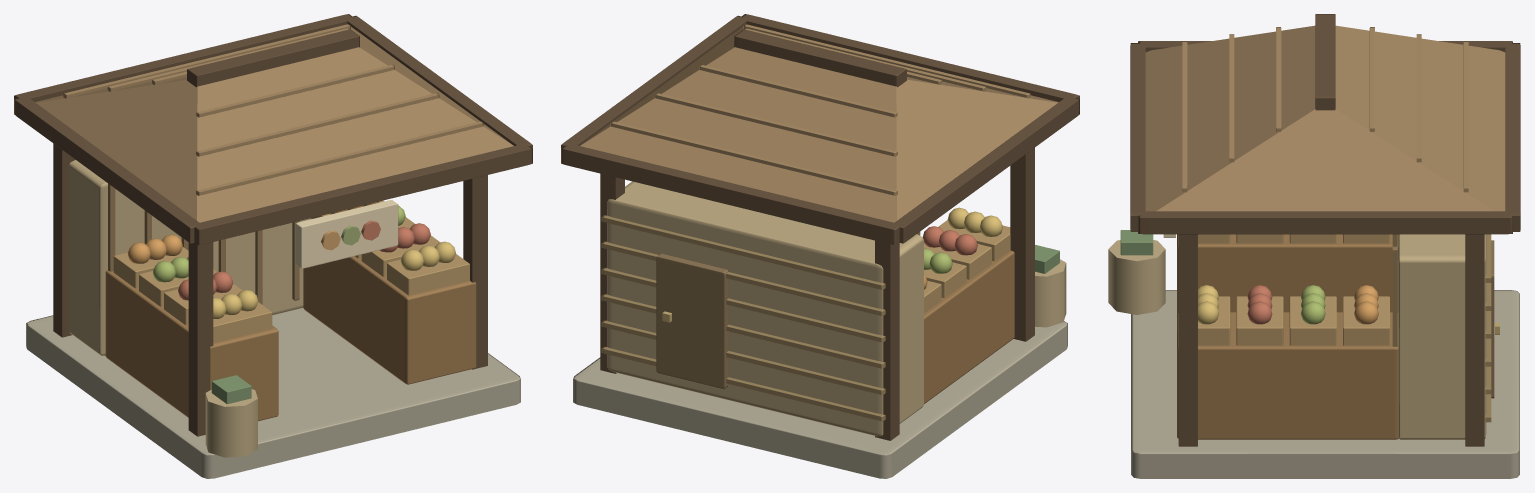
The model's file is grocer-3.glb.
The picture shows the model from 3 angles, left to right: view 1: azimuth 30°, elevation 25°; view 2: azimuth 150°, elevation 25°; view 3: azimuth 270°, elevation 25°; orthographic projection. The views are drawn at different scales.
Visible parts, largest first — view 1: grocer-3-0; view 2: grocer-3-0; view 3: grocer-3-0.
Boxes of the visible parts, bbox=[...] form: grocer-3-0: bbox=[14, 14, 532, 478]; grocer-3-0: bbox=[561, 14, 1079, 478]; grocer-3-0: bbox=[1108, 14, 1520, 478].
Size of the model in its own units: 2.05 by 1.84 by 2.01.
